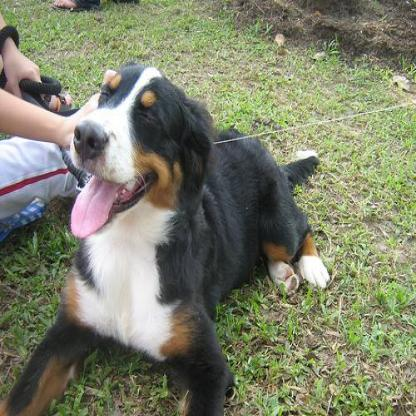Bernese_mountain_dog: (0, 62, 331, 414)
